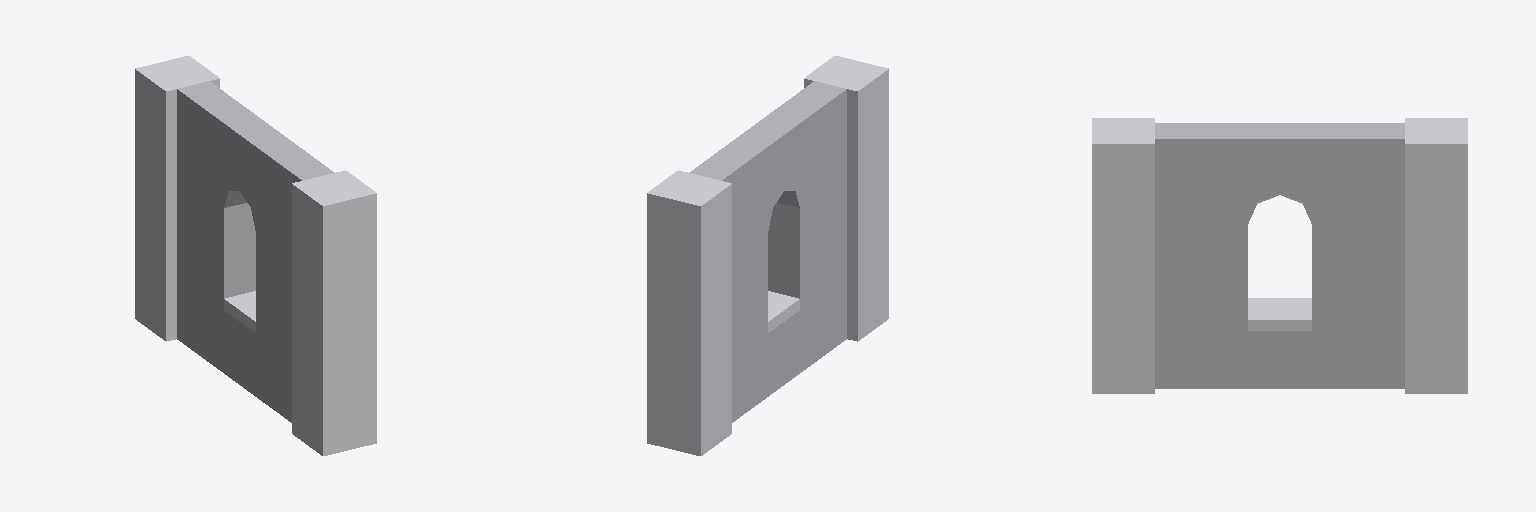
File: Grey_Window_Round_Sill_01.obj
3 views of the same model, side by side, from view 1: azimuth 30°, elevation 25°; view 2: azimuth 150°, elevation 25°; view 3: azimuth 270°, elevation 25° (orthographic).
Visible parts, largest first — view 1: Grey_Window_Round_Sill_01; view 2: Grey_Window_Round_Sill_01; view 3: Grey_Window_Round_Sill_01.
Boxes of the visible parts, x1=… form: Grey_Window_Round_Sill_01: x1=135, y1=56, x2=376, y2=455; Grey_Window_Round_Sill_01: x1=647, y1=56, x2=888, y2=455; Grey_Window_Round_Sill_01: x1=1092, y1=118, x2=1467, y2=393.
Size of the model in its own units: 0.5 by 2.2 by 3.